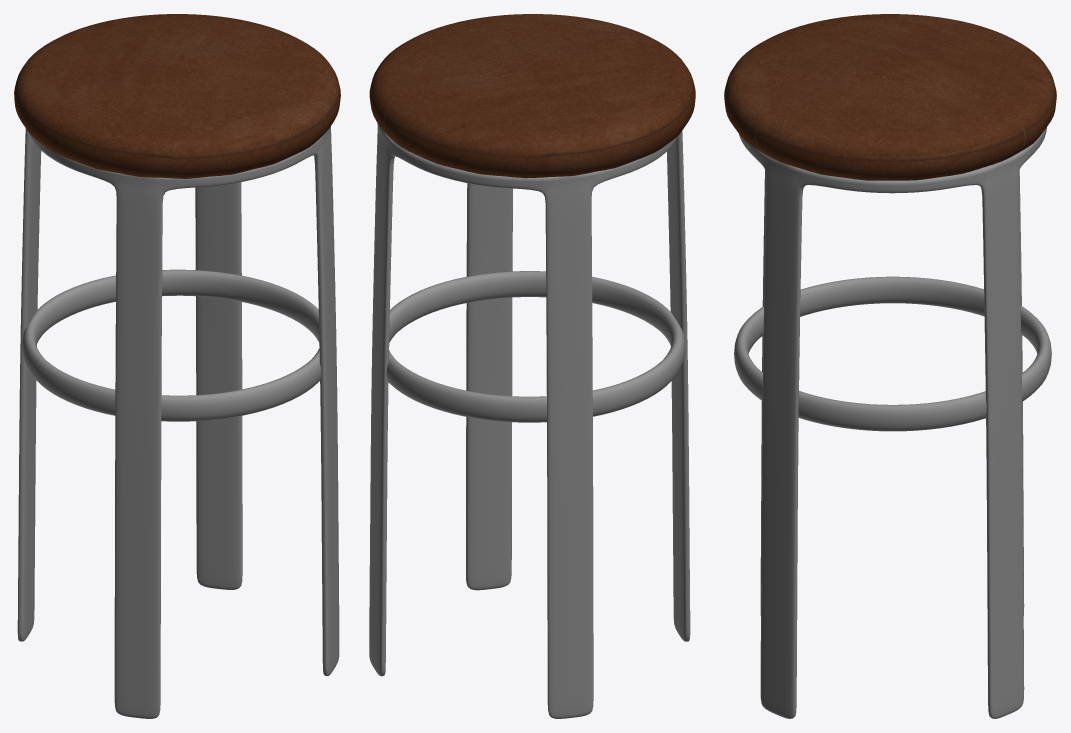
The model's file is Stool.fbx.
The picture shows the model from 3 angles, left to right: view 1: azimuth 30°, elevation 25°; view 2: azimuth 150°, elevation 25°; view 3: azimuth 270°, elevation 25°; orthographic projection.
Parts seen in each view (by area): view 1: Stool; view 2: Stool; view 3: Stool.
Boxes of the visible parts, x1,y1,x2,y2 form: Stool: (14, 14, 340, 718); Stool: (369, 14, 695, 718); Stool: (724, 14, 1056, 718).
Bounding box in the file's own units: 0.4152 × 0.8219 × 0.4152.
1 material, 1 textured.
